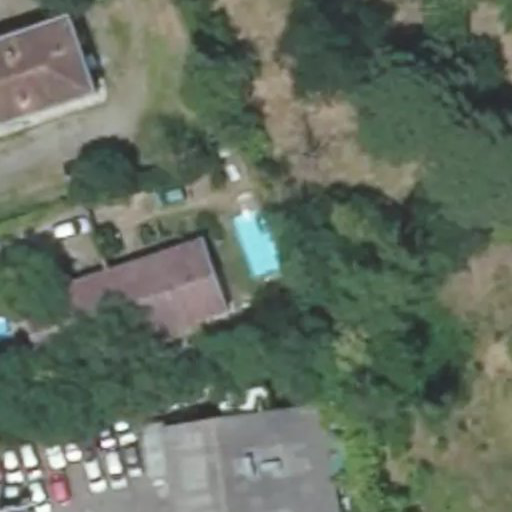pool: (233, 210, 282, 275)
